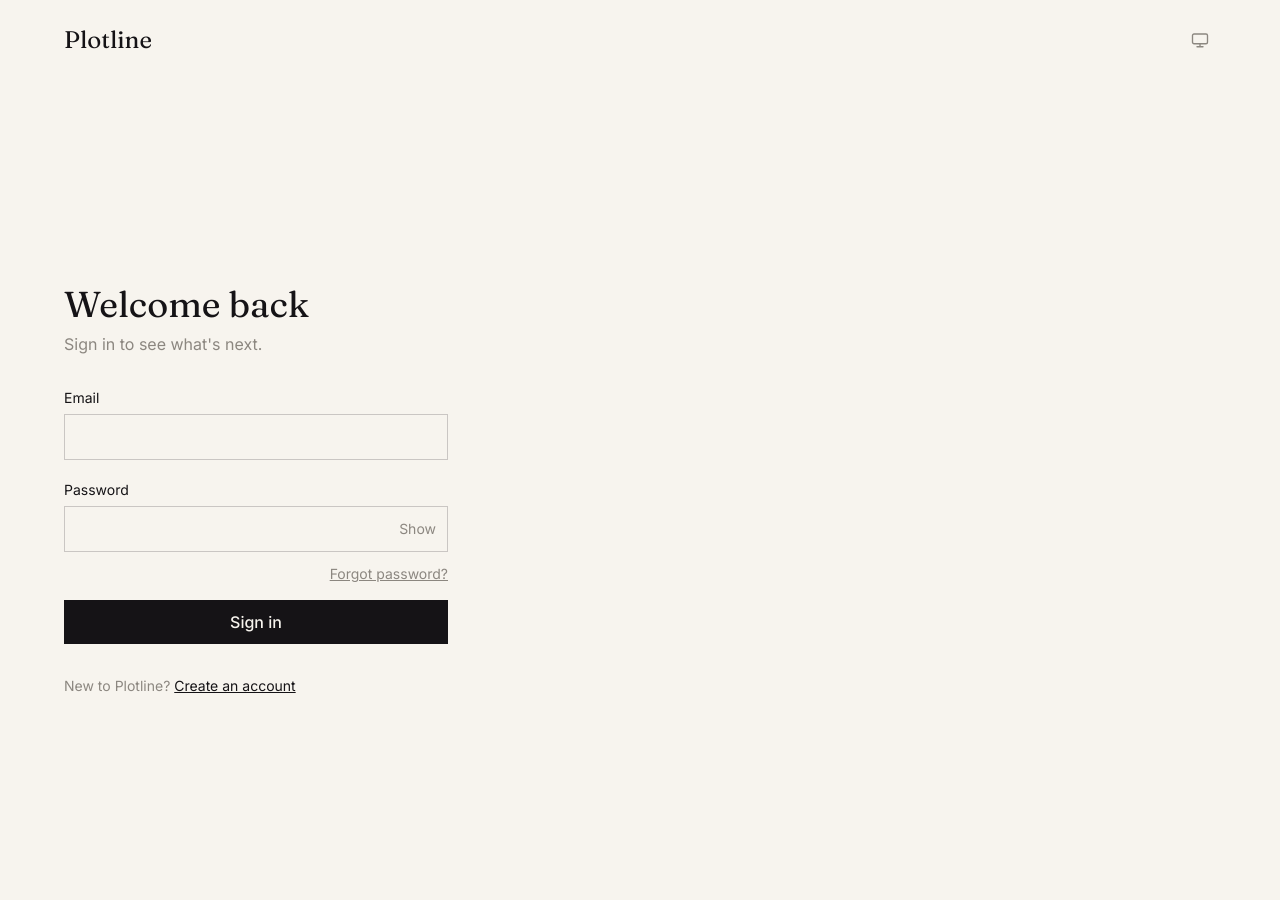
Test case: Login page › disables the button and shows 'Please wait…' while the request is in flight
Type "sue@example.com" into the field labelled "Email".
click(256, 437); type("sue@example.com")  # box [64, 414, 448, 460]
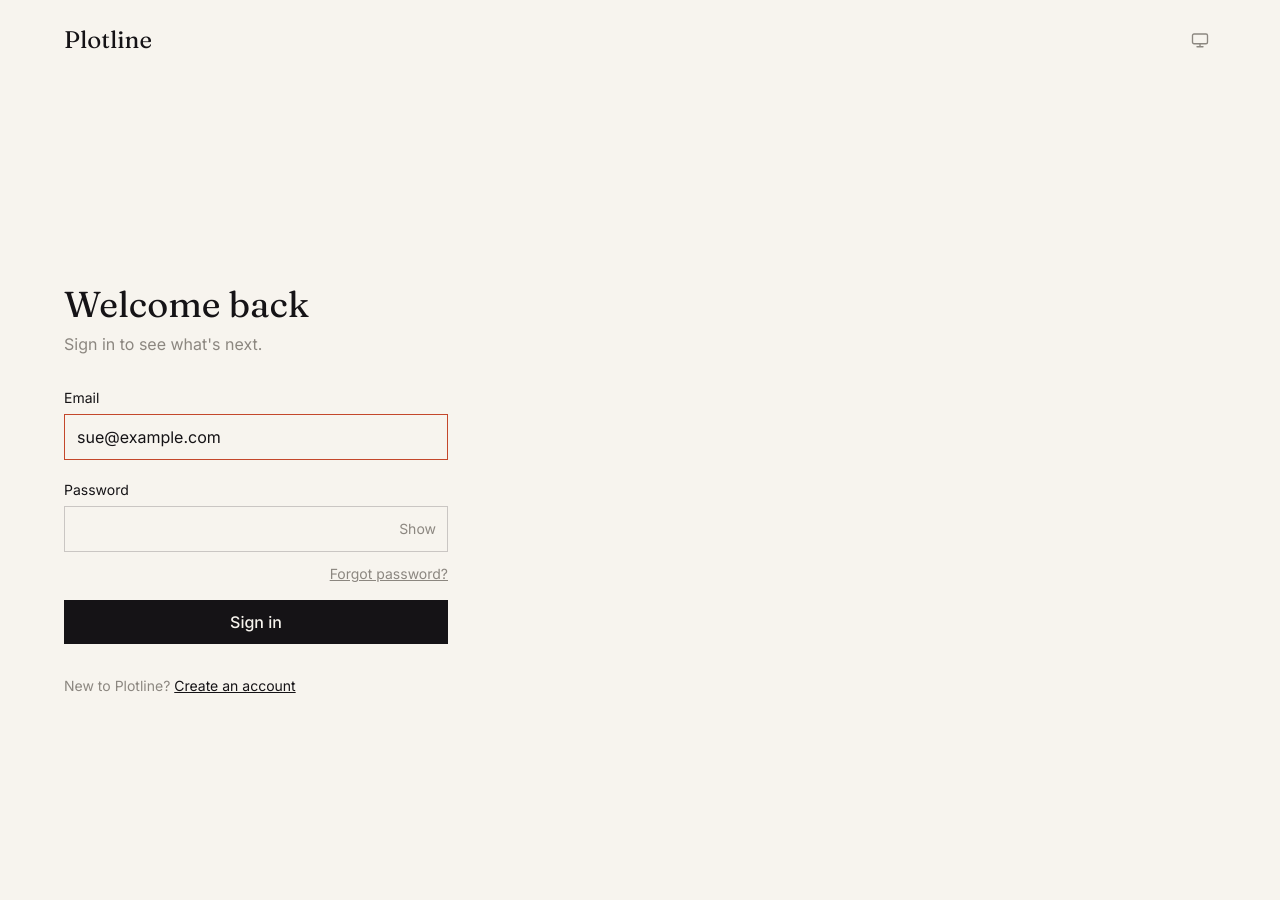
Type "correct-horse" into the password field labelled "Password".
click(256, 529); type("correct-horse")  # box [64, 506, 448, 552]
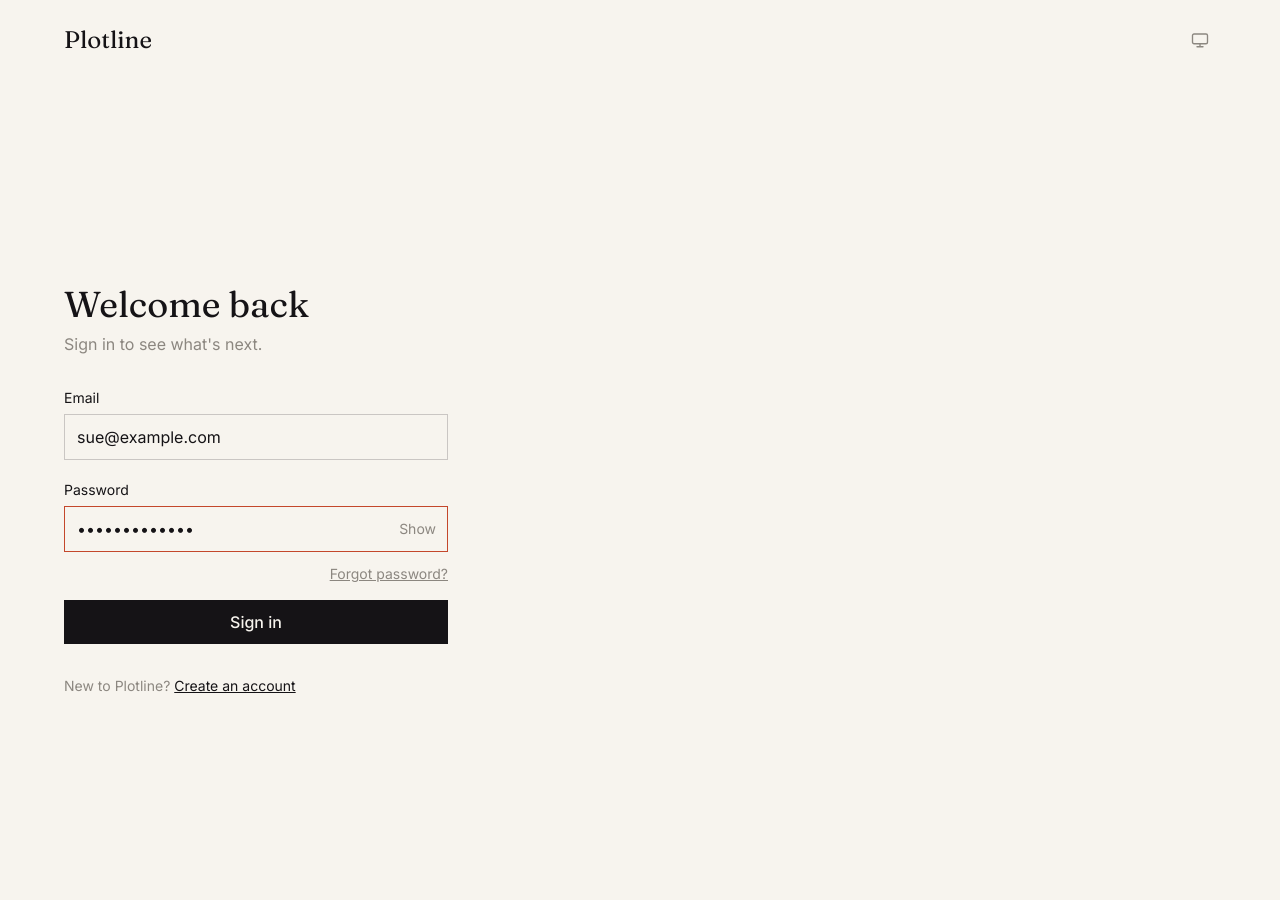
Click the button "Sign in".
click(256, 622)  # box [64, 600, 448, 644]
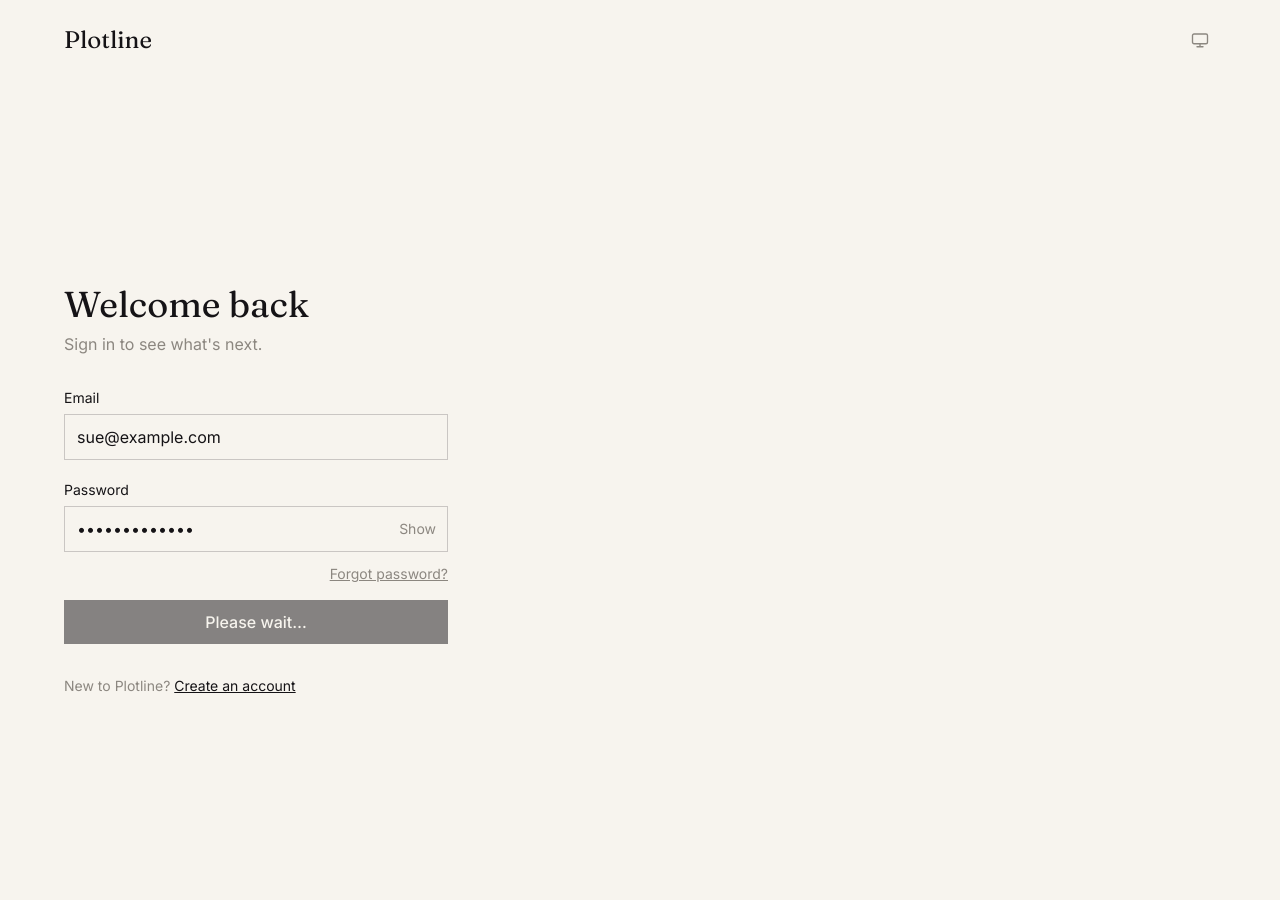
Result: the button "Please wait…" is disabled at [64, 600, 448, 644]
